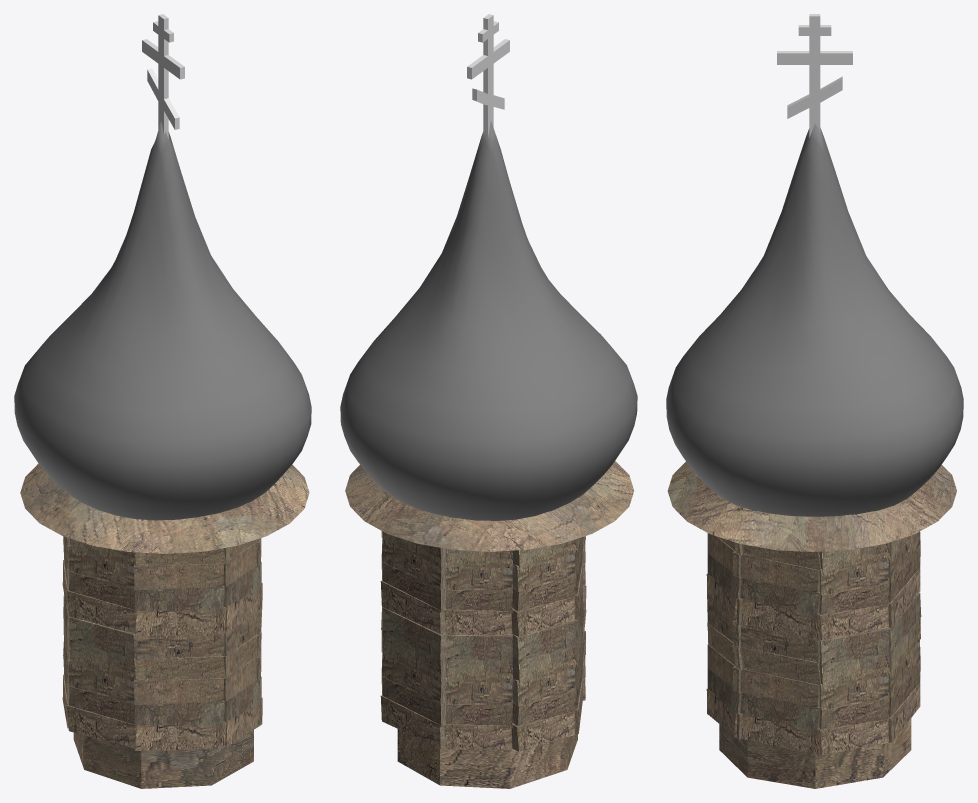
Rendered from church 1.fbx.
3 renders of one model, left to right at view 1: azimuth 30°, elevation 25°; view 2: azimuth 150°, elevation 25°; view 3: azimuth 270°, elevation 25°, orthographic.
Parts seen in each view (by area): view 1: Box001, part15.552, part15.550, Cylinder002, part15.551, Cylinder001, Box002, part15.549, part15.553; view 2: Box001, part15.548, part15.549, part15.547, Cylinder002, Cylinder001, Box002, part15.550, part15.552; view 3: Box001, part15.553, part15.493, Cylinder002, Cylinder001, part15.547, part15.551, Box002.
Part boxes in pixels (left/top/right/bottom): Box001: left=14, top=121, right=311, bottom=520; part15.552: left=133, top=548, right=226, bottom=750; part15.550: left=67, top=538, right=135, bottom=748; Cylinder002: left=20, top=463, right=309, bottom=553; part15.551: left=223, top=538, right=262, bottom=747; Cylinder001: left=73, top=730, right=253, bottom=788; Box002: left=142, top=14, right=184, bottom=138; part15.549: left=62, top=536, right=70, bottom=728; part15.553: left=255, top=539, right=260, bottom=726; Box001: left=340, top=121, right=637, bottom=520; part15.548: left=444, top=548, right=513, bottom=749; part15.549: left=511, top=539, right=575, bottom=751; part15.547: left=380, top=532, right=446, bottom=748; Cylinder002: left=345, top=461, right=634, bottom=551; Cylinder001: left=397, top=701, right=577, bottom=788; Box002: left=467, top=14, right=509, bottom=136; part15.550: left=574, top=537, right=583, bottom=734; part15.552: left=582, top=536, right=586, bottom=700; Box001: left=666, top=124, right=963, bottom=516; part15.553: left=732, top=542, right=820, bottom=755; part15.493: left=819, top=542, right=889, bottom=755; Cylinder002: left=667, top=462, right=956, bottom=552; Cylinder001: left=719, top=718, right=911, bottom=788; part15.547: left=888, top=531, right=921, bottom=742; part15.551: left=707, top=533, right=742, bottom=739; Box002: left=777, top=14, right=852, bottom=137.
Bounding box in the file's own units: 285 × 796 × 292.
